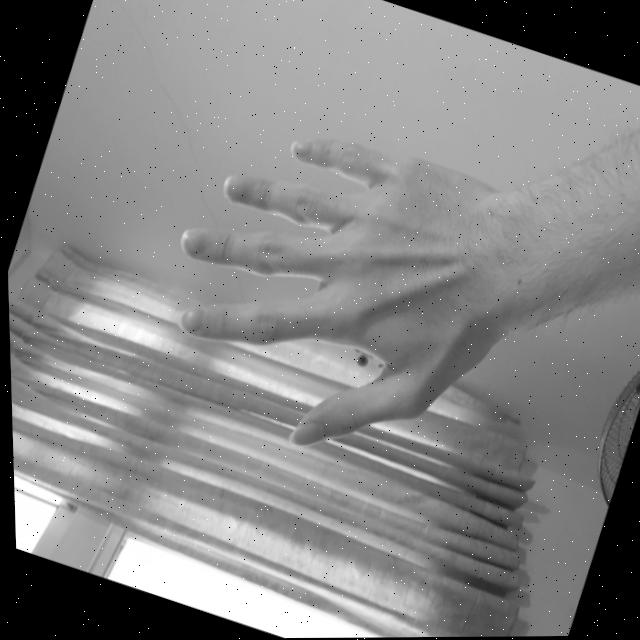hand: (119, 92, 528, 497)
